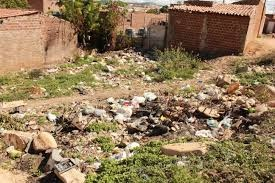rubble: (63, 94, 258, 143)
